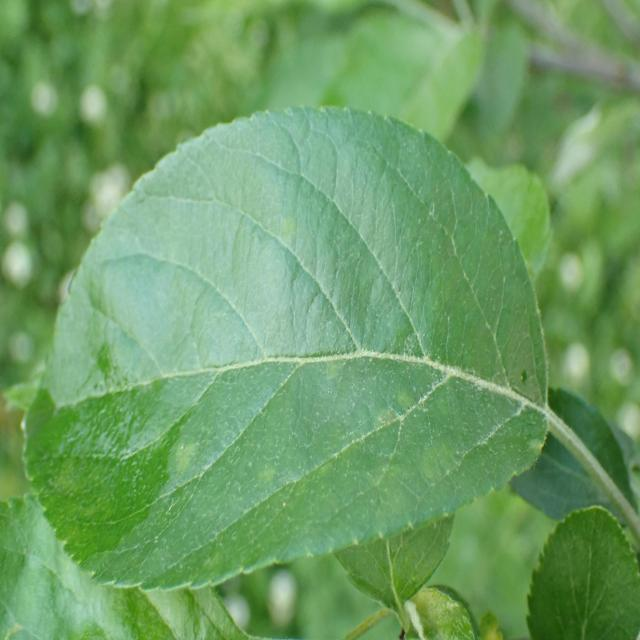scab: (51, 153, 522, 522)
